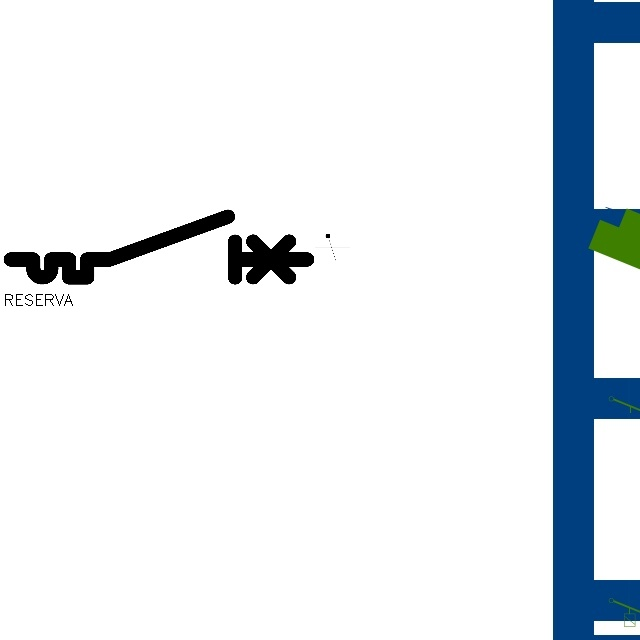interruptor_termomagnetico: (3, 209, 315, 285)
